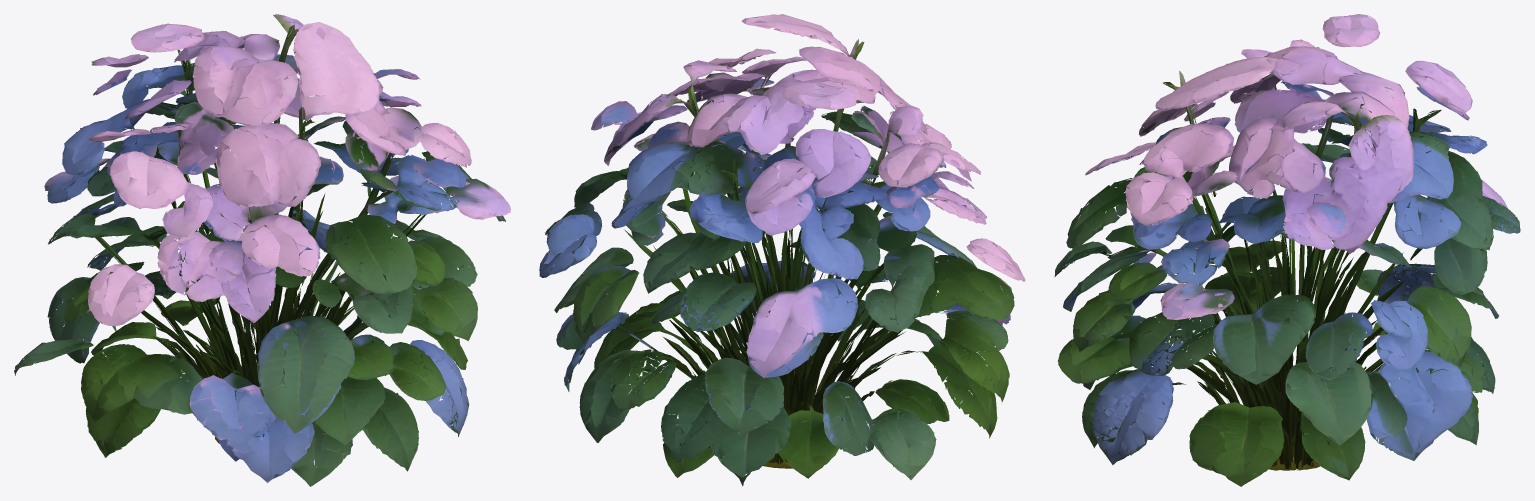
Rendered from hydrangea.glb.
3 views of the same model, side by side, from view 1: azimuth 30°, elevation 25°; view 2: azimuth 150°, elevation 25°; view 3: azimuth 270°, elevation 25° (orthographic).
Parts seen in each view (by area): view 1: node_0; view 2: node_0; view 3: node_0.
Boxes of the visible parts, x1,y1,x2,y2 form: node_0: (14,14,510,486); node_0: (539,14,1025,486); node_0: (1054,14,1520,486).
Bounding box in the file's own units: 0.99 × 0.9062 × 0.9361.
1 material, 1 textured.
